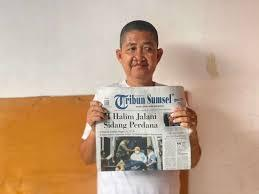Kertas: (93, 84, 191, 171)
